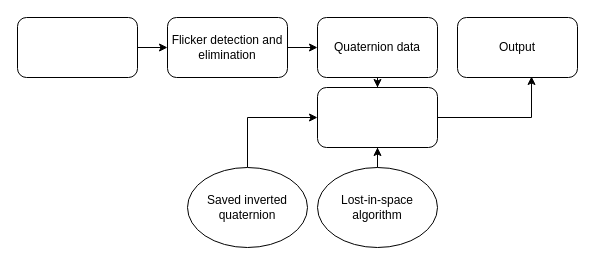
Image size: 595x265. Some labels were removed from this diagram. Each missing label, with the box of its shape:
IMU Data: (16, 16, 138, 78)
Recalibration: (316, 86, 438, 148)
